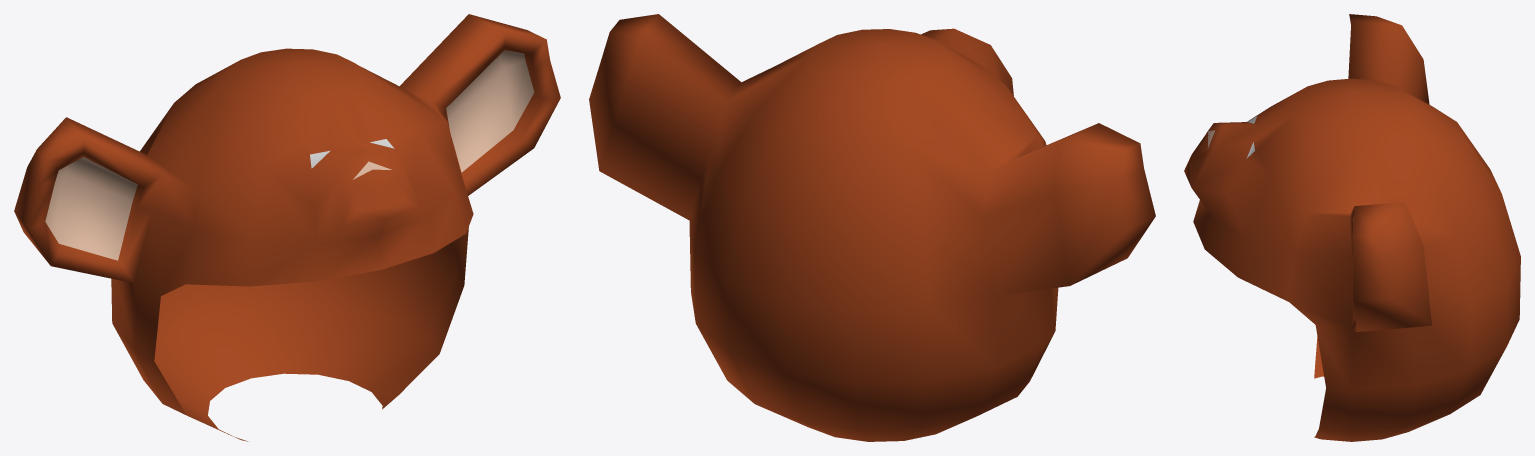
The model's file is MonkeyHead.fbx.
3 renders of one model, left to right at view 1: azimuth 30°, elevation 25°; view 2: azimuth 150°, elevation 25°; view 3: azimuth 270°, elevation 25°, orthographic. The views are drawn at different scales.
Parts seen in each view (by area): view 1: Head_1; view 2: Head_1; view 3: Head_1.
Boxes of the visible parts, x1,y1,x2,y2 form: Head_1: [14, 14, 560, 441]; Head_1: [589, 14, 1155, 441]; Head_1: [1184, 14, 1520, 441].
Bounding box in the file's own units: 356 × 221 × 214.
